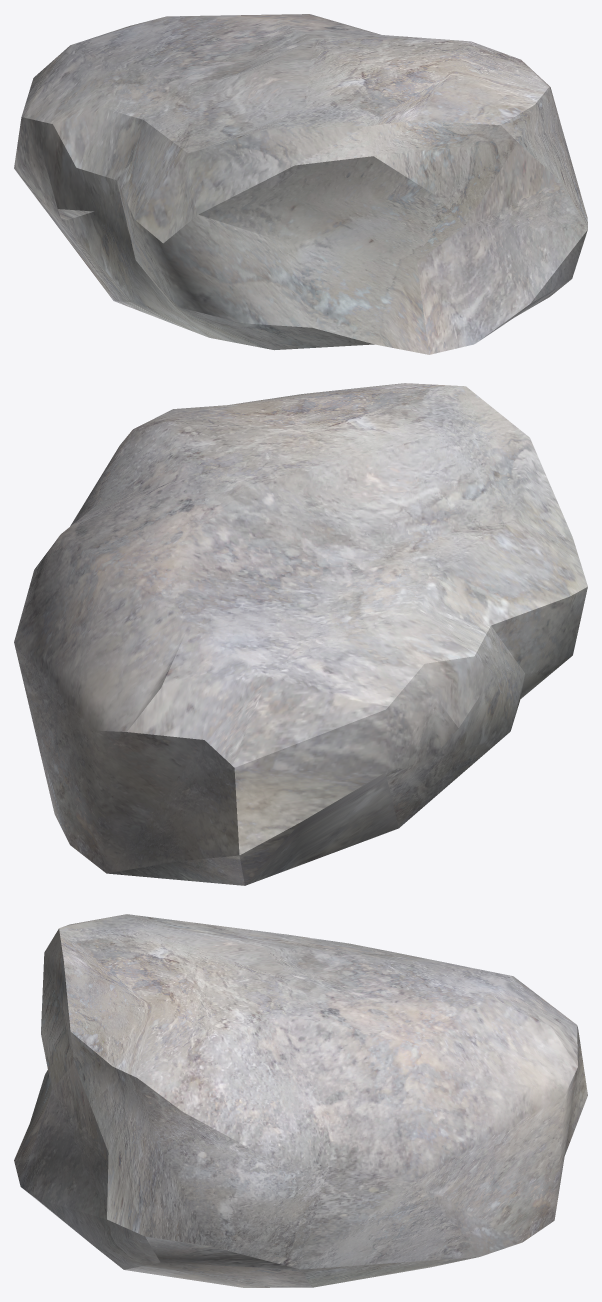
File: rock_00C_lp2_2k.fbx
The picture shows the model from 3 angles, top to bottom: view 1: azimuth 30°, elevation 25°; view 2: azimuth 150°, elevation 25°; view 3: azimuth 270°, elevation 25°; orthographic projection. The views are drawn at different scales.
Visible parts, largest first — view 1: rock_00C_lp2_2k; view 2: rock_00C_lp2_2k; view 3: rock_00C_lp2_2k.
Part boxes in pixels (bbox=[...]): rock_00C_lp2_2k: bbox=[14, 14, 587, 354]; rock_00C_lp2_2k: bbox=[14, 383, 587, 885]; rock_00C_lp2_2k: bbox=[14, 914, 587, 1287].
Bounding box in the file's own units: 222 × 143 × 261.
